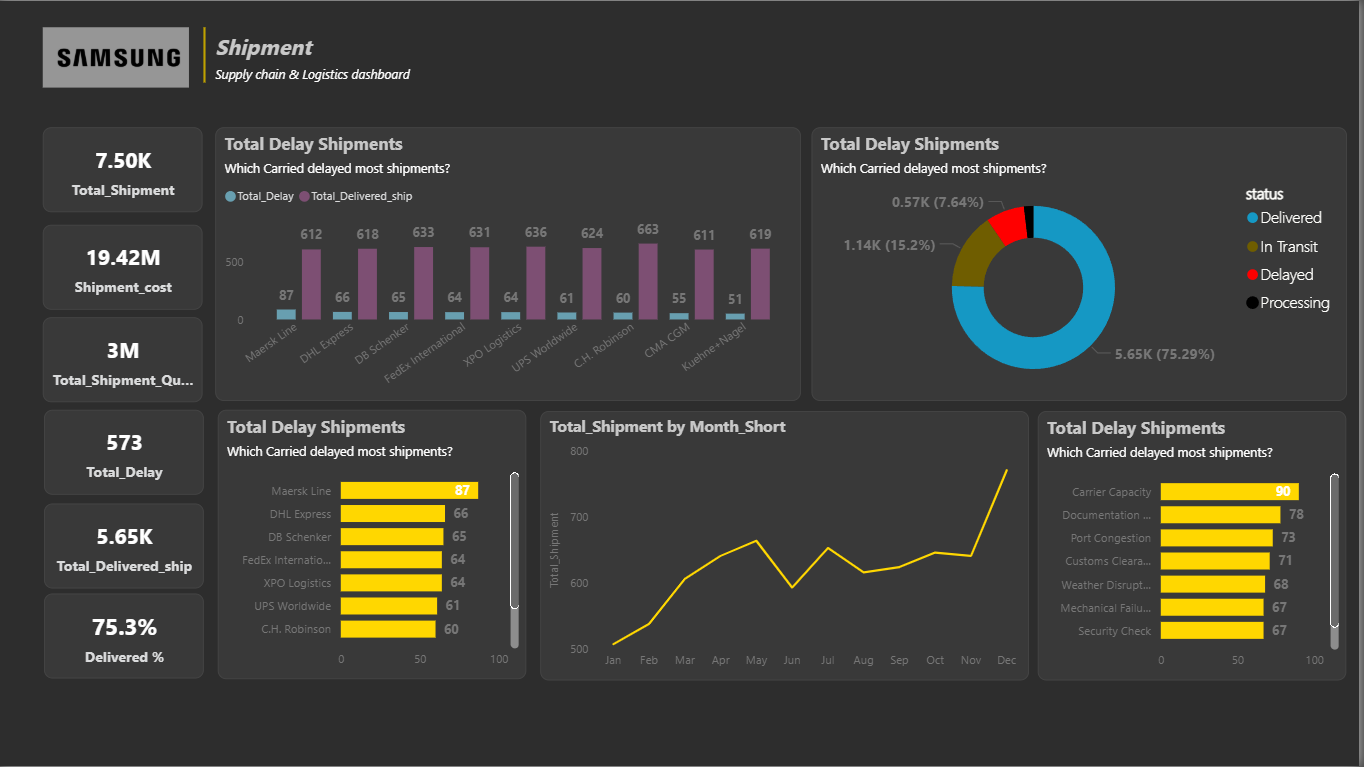

What the dashboard file says about the page in this screenshot:
{"tool":"powerbi","page":{"name":"Shipment","canvas":[1280,720],"ordinal":4},"visuals":[{"type":"shape","title":"Overview","box":[203.3,28.9,231.1,47.8],"z":0},{"type":"shape","box":[181.1,24.4,24.4,52.2],"z":1000},{"type":"image","box":[41.1,24.4,137.8,56.7],"z":2000},{"type":"card","fields":{"Values":["MeasuresTable.Shipment_cost"]},"box":[40.7,210.4,150,80],"z":3000},{"type":"card","fields":{"Values":["MeasuresTable.Total_Shipment_Quantity"]},"box":[40.7,297.1,150,80],"z":4000},{"type":"card","fields":{"Values":["MeasuresTable.Total_Delay"]},"box":[42.9,384.9,150,80],"z":5000},{"type":"card","fields":{"Values":["MeasuresTable.Total_Delivered_Quantity"]},"box":[41.8,472.7,150,80],"z":6000},{"type":"card","fields":{"Values":["MeasuresTable.Delivered %"]},"box":[41.8,558.2,150,80],"z":7000},{"type":"card","fields":{"Values":["MeasuresTable.Total_Shipment"]},"box":[41.1,118.9,150,80],"z":8000},{"type":"clusteredBarChart","title":"Total Delay Shipments","fields":{"Category":["fact_shipment.carrier"],"Y":["MeasuresTable.Total_Delay"]},"box":[205.7,384.8,290.8,254],"z":9000},{"type":"clusteredColumnChart","title":"Total Delay Shipments","fields":{"Y":["MeasuresTable.Total_Delay","MeasuresTable.Total_Delivered_ship"],"Category":["fact_shipment.carrier"]},"box":[203.2,119.4,551.1,257.8],"z":10000},{"type":"lineChart","fields":{"Category":["dim_date.Month_Short"],"Y":["MeasuresTable.Total_Shipment"]},"box":[509.2,386,459.7,254],"z":11000},{"type":"clusteredBarChart","title":"Total Delay Shipments","fields":{"Y":["MeasuresTable.Total_Delay"],"Category":["fact_shipment.delay_reason"]},"box":[977.8,386,290.8,254],"z":12000},{"type":"pieChart","title":"Total Delay Shipments","fields":{"Category":["fact_shipment.status"],"Y":["MeasuresTable.Total_Shipment"]},"box":[764.4,119.4,504.1,257.8],"z":13000}]}

Visuals, with their boxes in screenshot pixels (x1, y1, x2, y2), scaled from the page's 1280x720 canvas onto the 1364x767 screenshot:
"Overview" shape: x1=217, y1=31, x2=463, y2=82
shape: x1=193, y1=26, x2=219, y2=82
image: x1=44, y1=26, x2=191, y2=86
card - MeasuresTable.Shipment_cost: x1=43, y1=224, x2=203, y2=309
card - MeasuresTable.Total_Shipment_Quantity: x1=43, y1=316, x2=203, y2=402
card - MeasuresTable.Total_Delay: x1=46, y1=410, x2=206, y2=495
card - MeasuresTable.Total_Delivered_Quantity: x1=45, y1=504, x2=204, y2=589
card - MeasuresTable.Delivered %: x1=45, y1=595, x2=204, y2=680
card - MeasuresTable.Total_Shipment: x1=44, y1=127, x2=204, y2=212
"Total Delay Shipments" clusteredBarChart: x1=219, y1=410, x2=529, y2=680
"Total Delay Shipments" clusteredColumnChart: x1=217, y1=127, x2=804, y2=402
lineChart - dim_date.Month_Short x MeasuresTable.Total_Shipment: x1=543, y1=411, x2=1032, y2=682
"Total Delay Shipments" clusteredBarChart: x1=1042, y1=411, x2=1352, y2=682
"Total Delay Shipments" pieChart: x1=815, y1=127, x2=1352, y2=402
